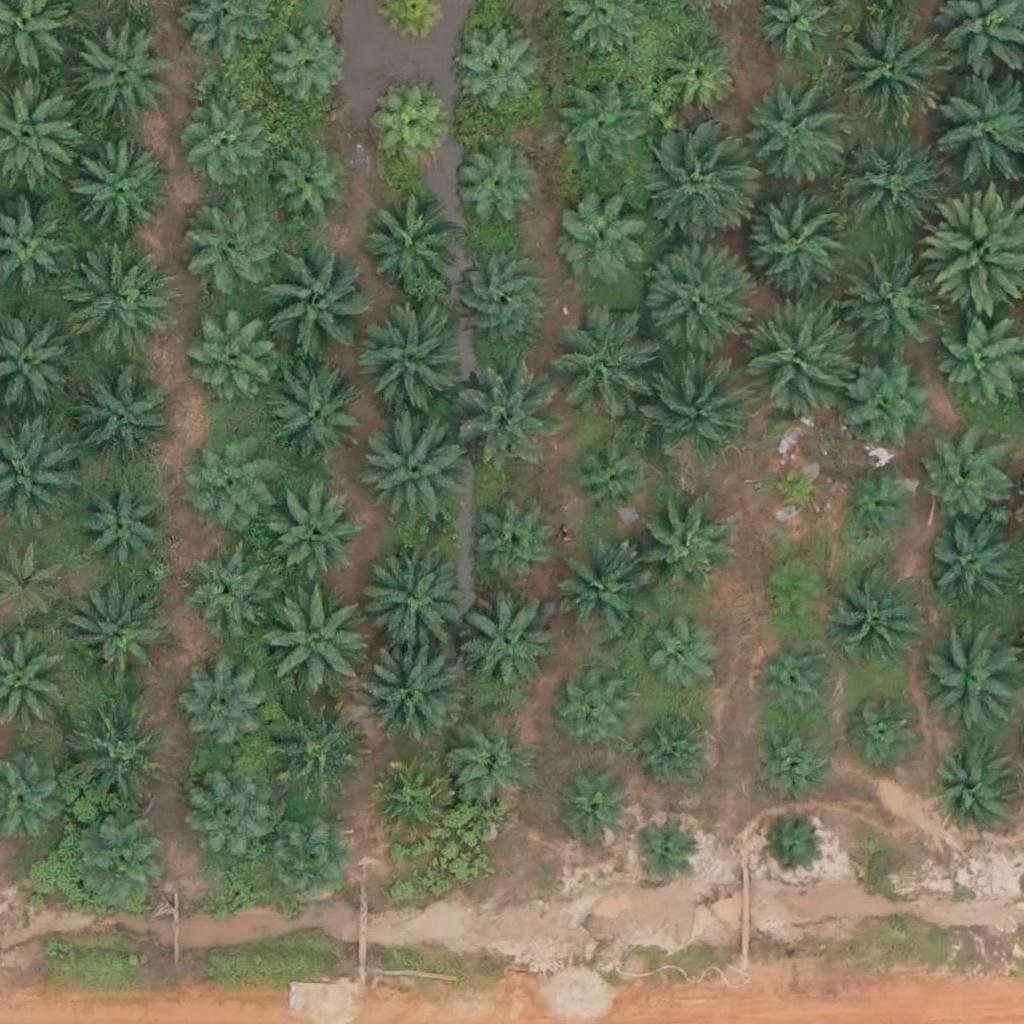Kelapa_Sawit: (352, 410, 465, 524), (830, 15, 943, 128), (834, 127, 947, 240), (741, 182, 854, 295), (638, 243, 751, 356), (357, 637, 470, 750), (349, 541, 462, 654), (61, 140, 174, 253), (62, 249, 175, 362), (638, 345, 750, 459), (355, 306, 467, 420), (257, 583, 369, 697), (734, 83, 846, 196), (739, 300, 851, 413), (636, 134, 748, 247), (449, 351, 561, 464), (253, 245, 365, 358), (57, 706, 169, 819), (838, 248, 938, 349), (840, 349, 940, 450), (632, 497, 732, 598), (546, 546, 646, 647), (546, 318, 646, 419), (456, 594, 556, 695), (359, 194, 459, 295), (262, 362, 362, 463), (264, 699, 364, 800), (183, 199, 283, 300), (72, 19, 172, 120), (66, 592, 166, 693), (831, 563, 931, 664), (923, 628, 1023, 728), (553, 184, 653, 284), (451, 252, 551, 352), (75, 819, 175, 919), (73, 367, 172, 468), (920, 436, 1008, 524), (745, 719, 833, 807), (364, 757, 452, 845), (653, 33, 741, 121), (567, 435, 655, 523), (448, 26, 536, 114), (274, 495, 362, 583), (176, 663, 264, 751), (174, 98, 262, 186), (923, 523, 1010, 612), (553, 83, 640, 172), (187, 770, 274, 859), (932, 743, 1019, 831), (755, 638, 842, 726), (450, 142, 537, 230), (472, 504, 559, 592), (449, 724, 536, 812), (266, 22, 353, 110), (263, 146, 350, 234), (265, 816, 352, 904), (177, 541, 264, 629), (186, 429, 273, 517), (189, 314, 276, 402), (80, 480, 167, 568), (638, 621, 713, 697), (640, 709, 715, 785), (839, 469, 914, 545), (758, 556, 833, 632), (372, 92, 447, 168), (846, 691, 921, 766), (558, 676, 633, 751), (556, 776, 631, 851), (629, 817, 692, 880), (762, 813, 824, 876), (765, 457, 827, 520)
